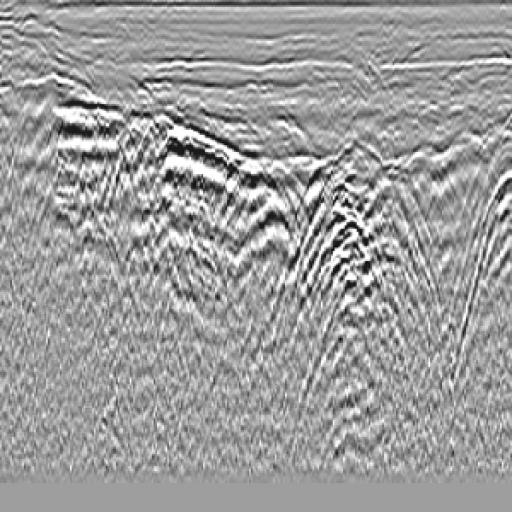metalic: (205, 132, 326, 307)
